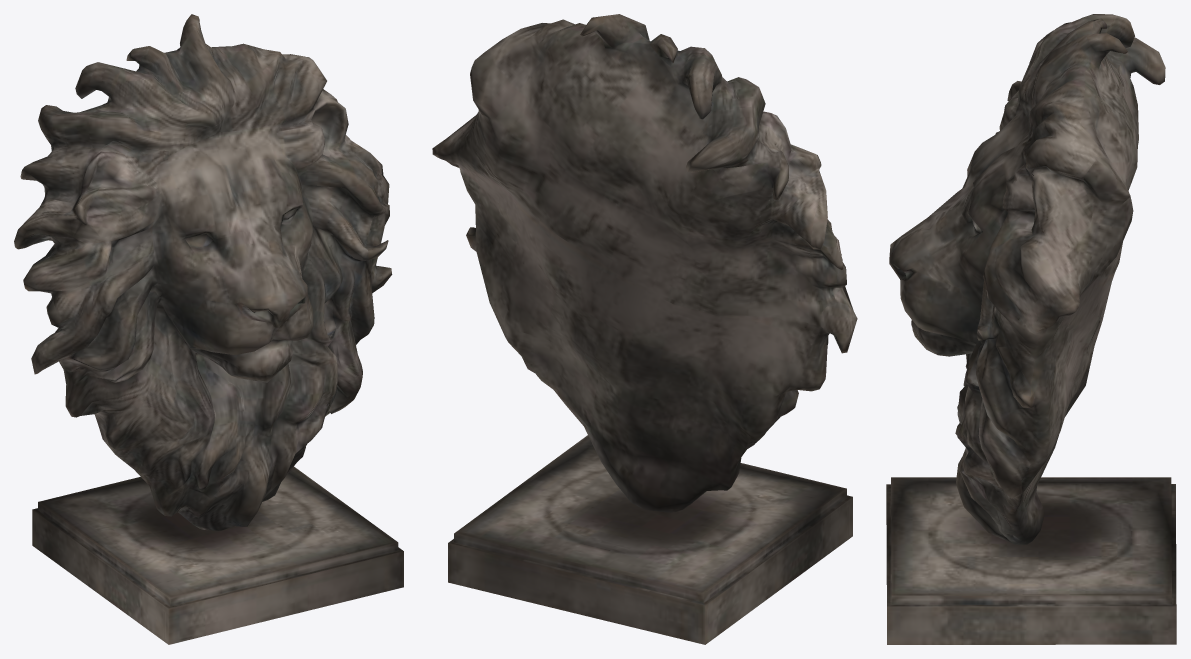
The model's file is lion_head.glb.
3 views of the same model, side by side, from view 1: azimuth 30°, elevation 25°; view 2: azimuth 150°, elevation 25°; view 3: azimuth 270°, elevation 25° (orthographic). The views are drawn at different scales.
Parts seen in each view (by area): view 1: lion_head; view 2: lion_head; view 3: lion_head.
Boxes of the visible parts, x1=… form: lion_head: x1=14, y1=14, x2=403, y2=644; lion_head: x1=432, y1=14, x2=857, y2=644; lion_head: x1=886, y1=14, x2=1176, y2=644.
Size of the model in its own units: 0.3208 by 0.4358 by 0.2066.
1 material, 1 textured.
